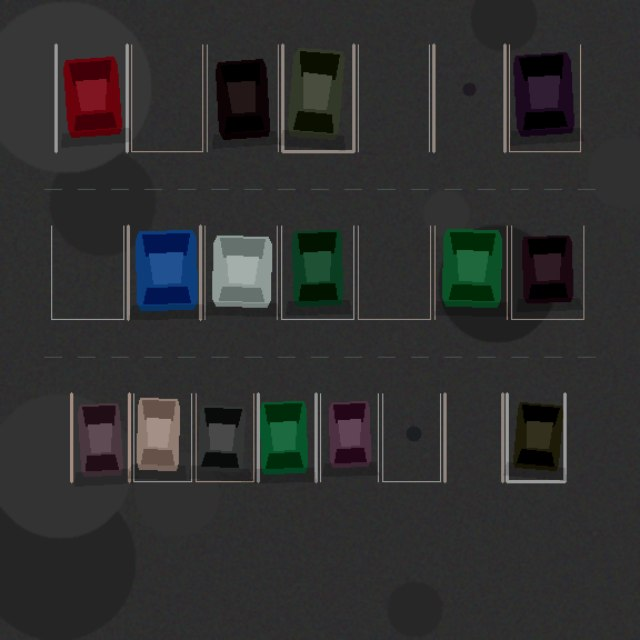space-empty: (131, 44, 202, 151), (358, 44, 429, 151), (433, 44, 504, 151), (51, 226, 123, 319), (358, 226, 430, 319), (382, 393, 440, 481), (444, 393, 502, 481)
space-occupied: (56, 44, 127, 151), (207, 44, 278, 151), (282, 44, 353, 151), (509, 44, 580, 151), (204, 226, 277, 319), (434, 226, 507, 319), (128, 226, 200, 319), (281, 226, 353, 319), (511, 226, 583, 319), (71, 393, 129, 481), (133, 393, 191, 481), (258, 393, 316, 481), (320, 393, 378, 481), (196, 393, 253, 481), (507, 393, 564, 481)
